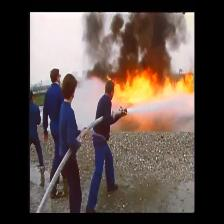fire: (113, 67, 193, 99)
